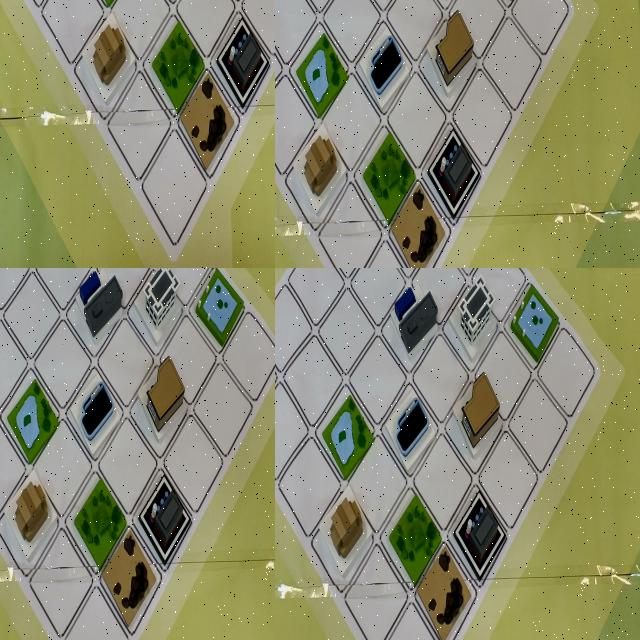bus_stop: (40, 428, 101, 528), (131, 36, 188, 140), (386, 269, 442, 361), (333, 0, 402, 57)
factory: (399, 148, 472, 268), (454, 484, 508, 584), (0, 268, 30, 348), (0, 0, 30, 57)
fish_pool: (509, 278, 562, 364), (145, 295, 199, 379), (490, 0, 558, 56)
forest: (319, 171, 391, 268), (386, 481, 446, 584), (103, 268, 152, 308), (0, 0, 33, 48)
gogo_shop: (327, 28, 395, 144), (184, 408, 245, 504), (71, 42, 122, 150), (385, 390, 441, 475)
research_build: (448, 269, 499, 358), (407, 0, 473, 57), (0, 368, 31, 466)
restaurant: (407, 6, 479, 128), (444, 370, 506, 474), (0, 493, 29, 590)
silicate_rock: (414, 538, 475, 640), (0, 156, 29, 250), (359, 240, 432, 268), (11, 268, 62, 308)
volunteer_center: (316, 480, 376, 574), (275, 147, 313, 268), (50, 278, 98, 363)
wet_land: (314, 379, 378, 486), (275, 32, 320, 153), (0, 0, 59, 48), (0, 578, 38, 640)
